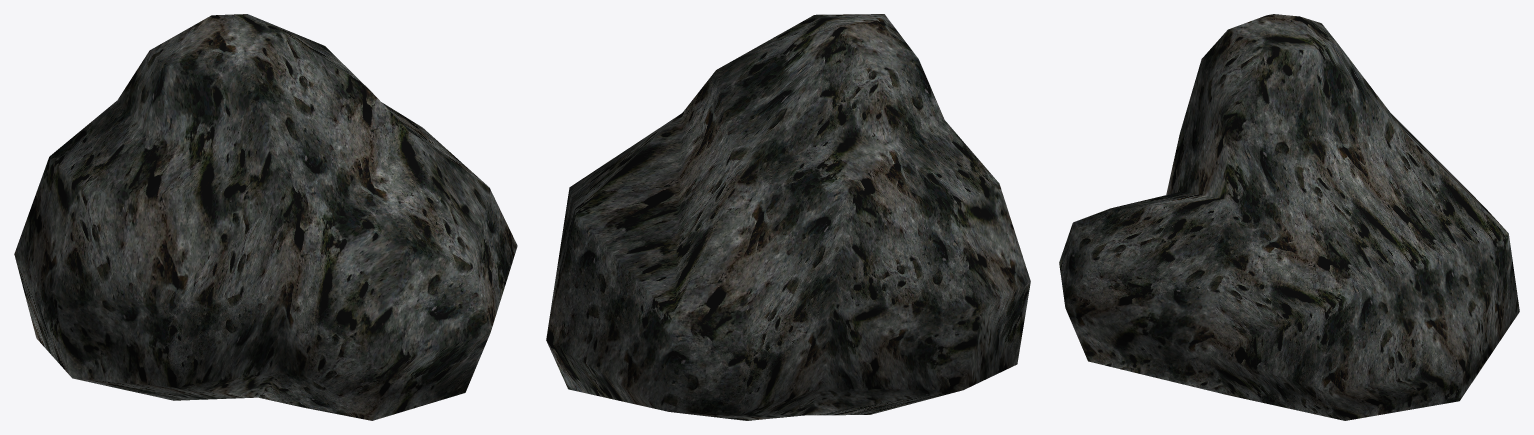
File: rock_scorched_big_l0.fbx
3 renders of one model, left to right at view 1: azimuth 30°, elevation 25°; view 2: azimuth 150°, elevation 25°; view 3: azimuth 270°, elevation 25°, orthographic. The views are drawn at different scales.
Parts seen in each view (by area): view 1: mesh_node; view 2: mesh_node; view 3: mesh_node.
Boxes of the visible parts, x1=… form: mesh_node: x1=14, y1=14, x2=517, y2=420; mesh_node: x1=546, y1=14, x2=1030, y2=420; mesh_node: x1=1059, y1=14, x2=1519, y2=420.
Bounding box in the file's own units: 7.28 × 5.93 × 7.56.
Materials: 1 (1 with a texture image).
